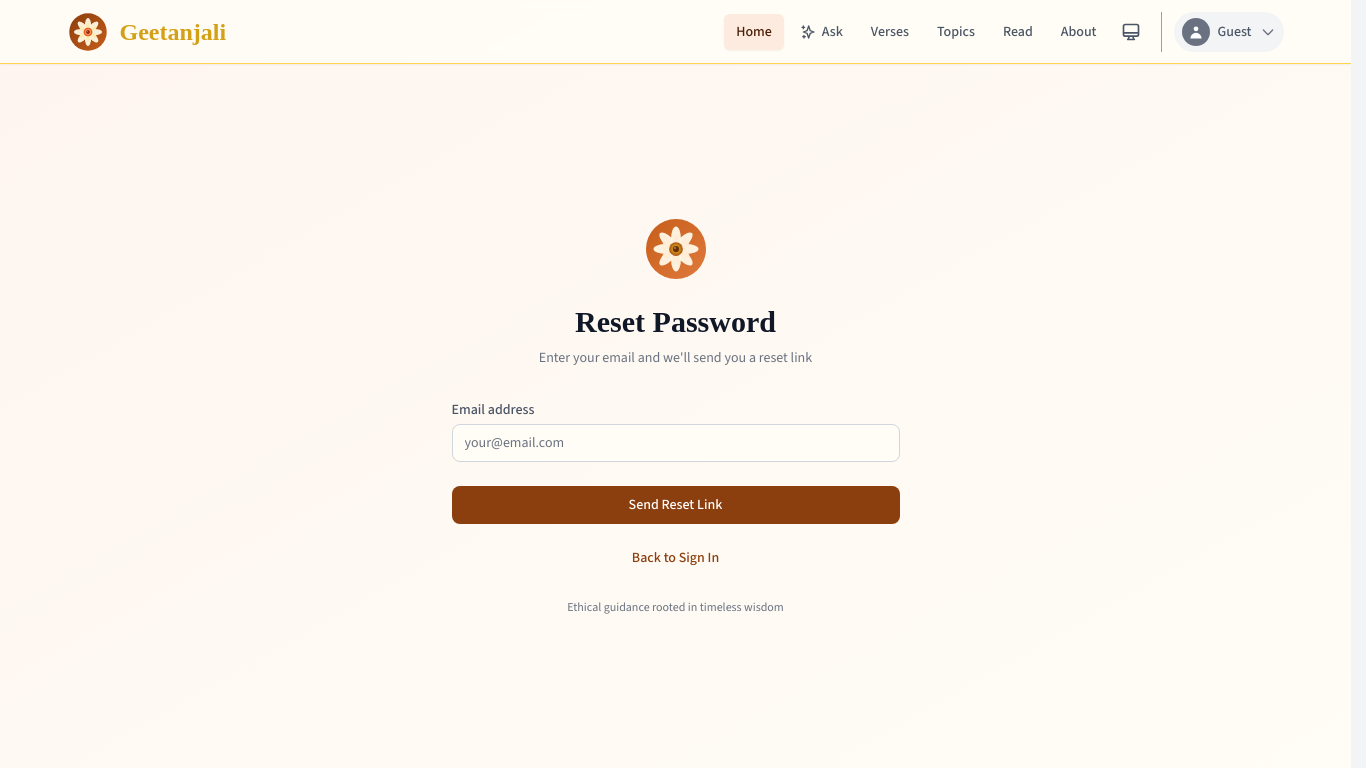
Test: ForgotPassword Page › should show success message after submitting
The width and height of the screenshot is (1366, 768).
Type "test@example.com" into the field labelled "Email address" at (676, 442), box [452,424,900,462]
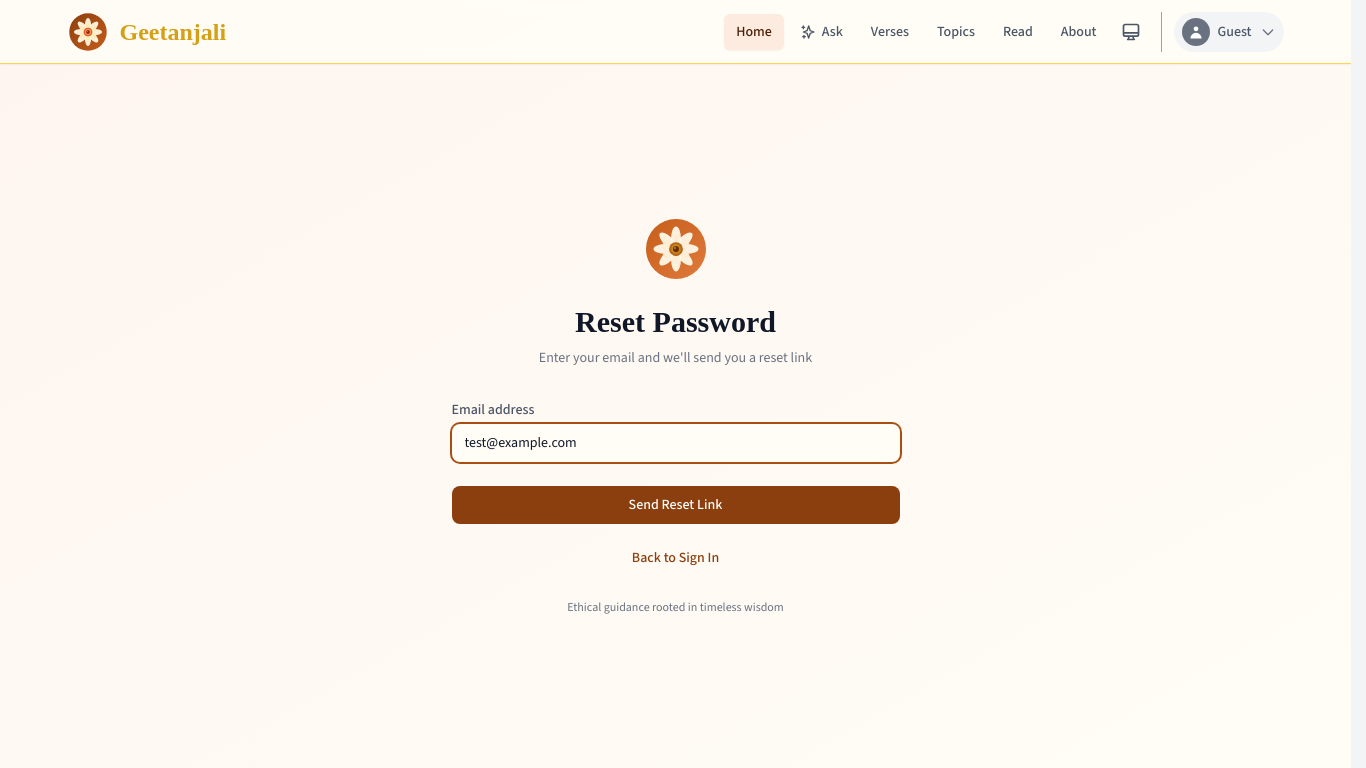
Click the button "Send Reset Link" at (676, 504), box [452,486,900,524]
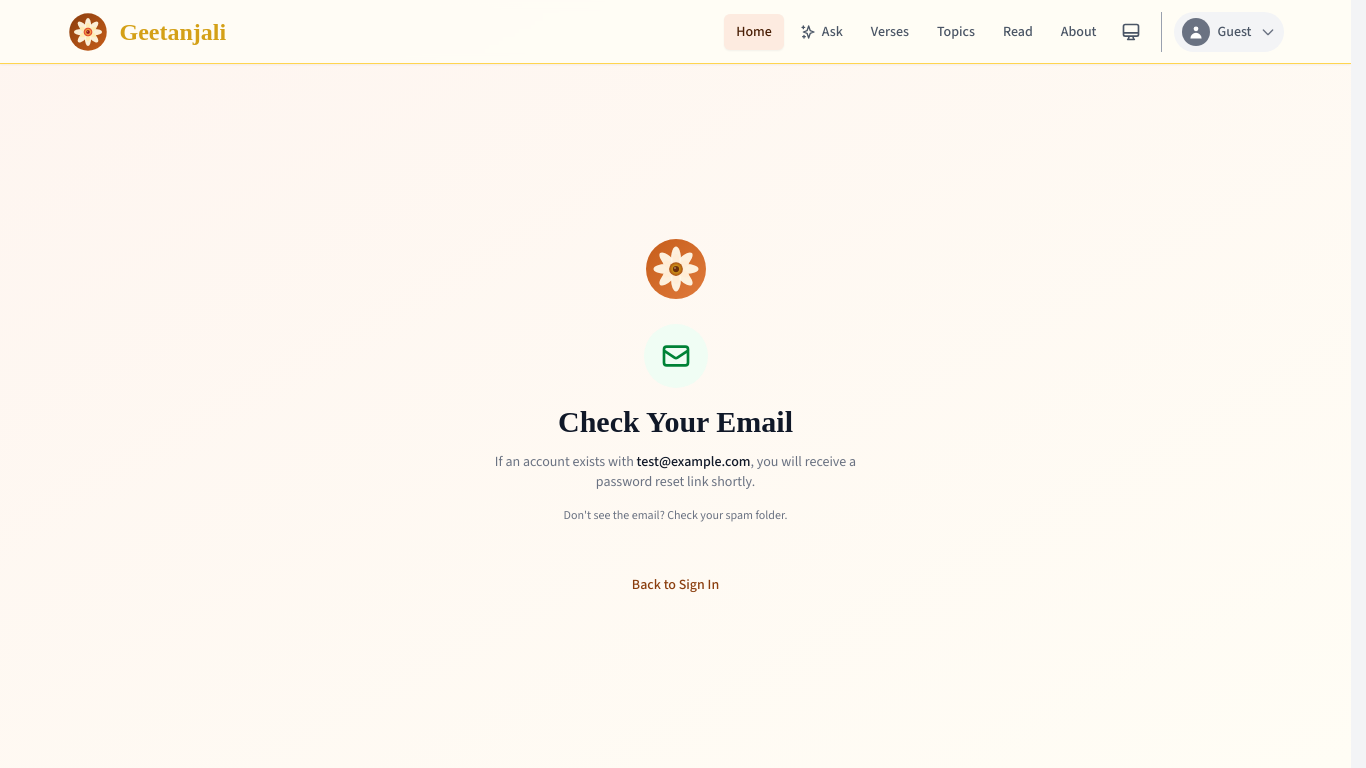
Now the heading "Check Your Email" is shown, box [558,404,793,438]
Now the text "test@example.com" is shown, box [637,452,750,472]
